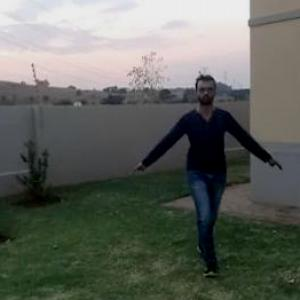land: (131, 78, 272, 258)
